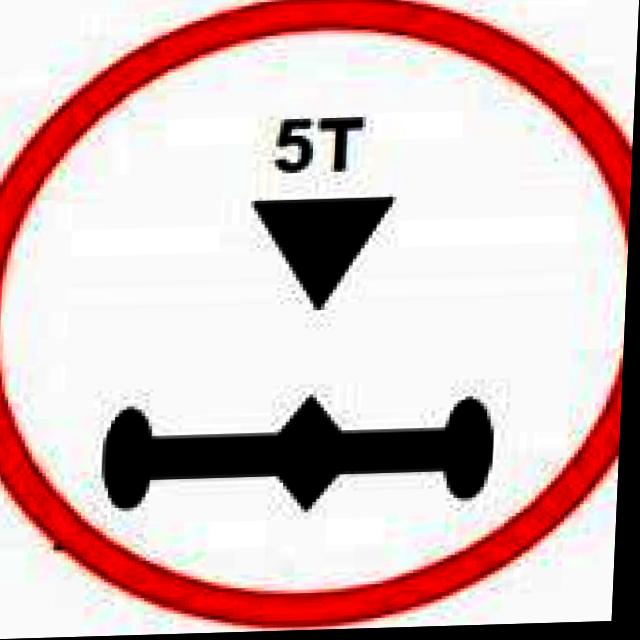AXLE_LOAD_LIMIT: (0, 0, 640, 634)
